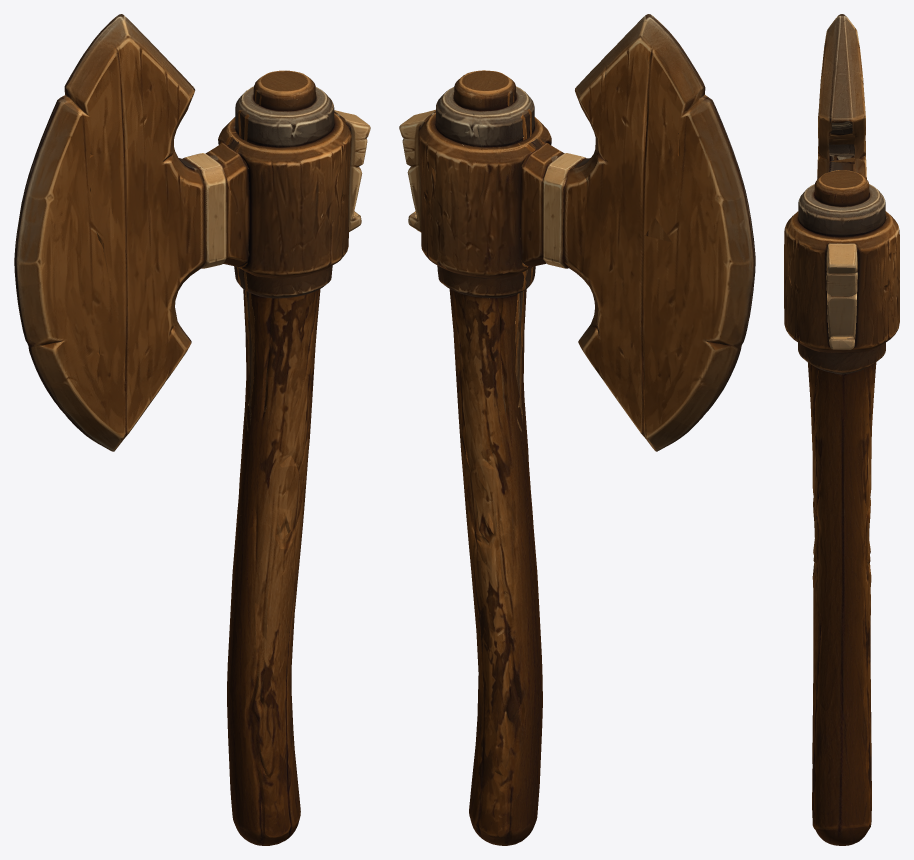
File: axe.glb
The picture shows the model from 3 angles, left to right: view 1: azimuth 30°, elevation 25°; view 2: azimuth 150°, elevation 25°; view 3: azimuth 270°, elevation 25°; orthographic projection. The views are drawn at different scales.
Visible parts, largest first — view 1: output_unwrapped; view 2: output_unwrapped; view 3: output_unwrapped.
Boxes of the visible parts, left/top/right/bottom form: output_unwrapped: left=14, top=14, right=370, bottom=845; output_unwrapped: left=399, top=14, right=755, bottom=845; output_unwrapped: left=784, top=14, right=899, bottom=845.
Bounding box in the file's own units: 0.8062 × 1.9 × 0.2609.
Materials: 1 (1 with a texture image).
